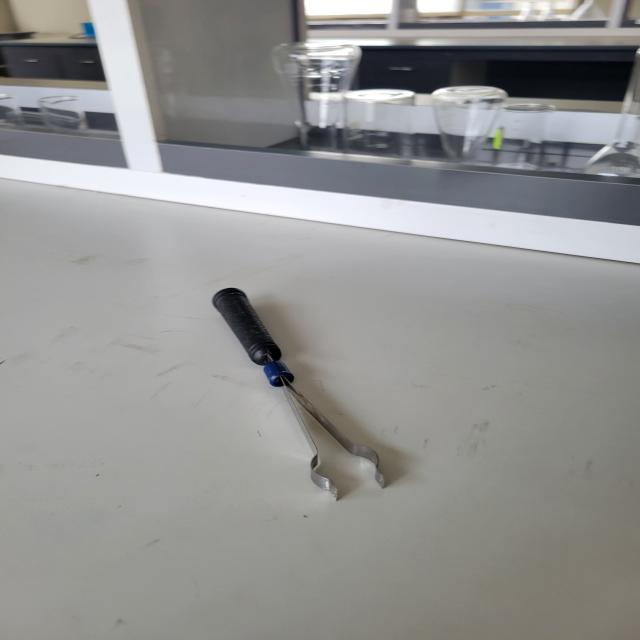TestTube_Holder: (159, 226, 448, 536)
